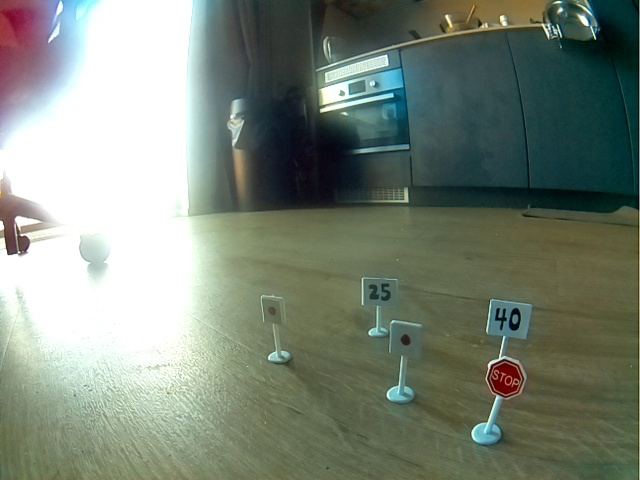red light: (390, 320, 420, 358), (261, 293, 284, 323)
speed 25: (362, 277, 397, 306)
speed 40: (490, 298, 528, 338)
stop: (485, 357, 525, 400)
